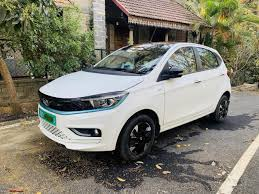Tiago: (34, 39, 232, 166)
